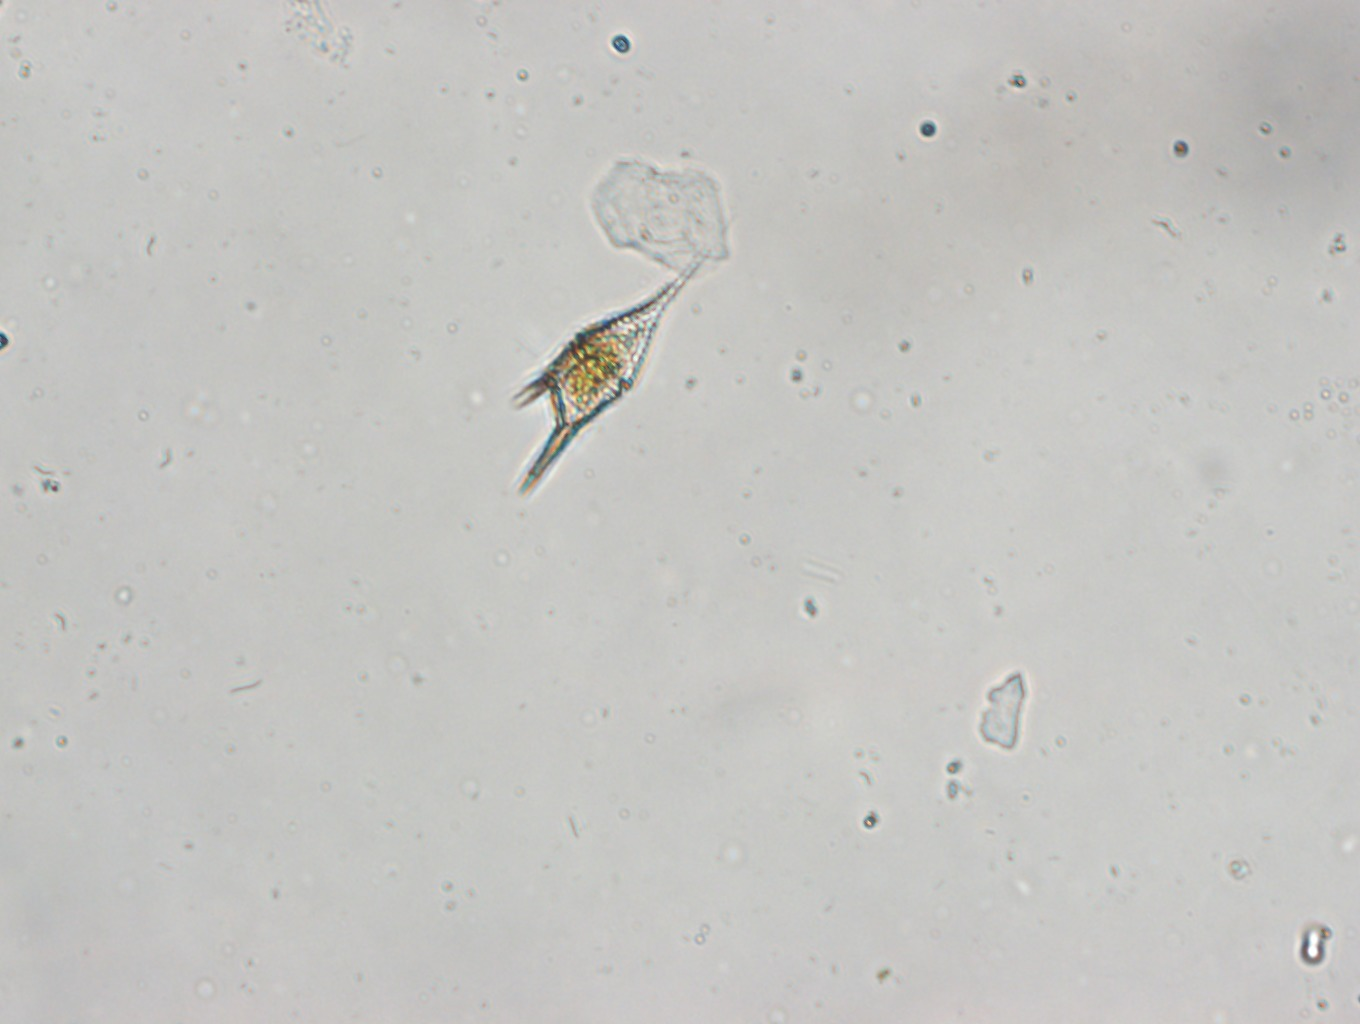ceratium furca: (499, 248, 707, 503)
